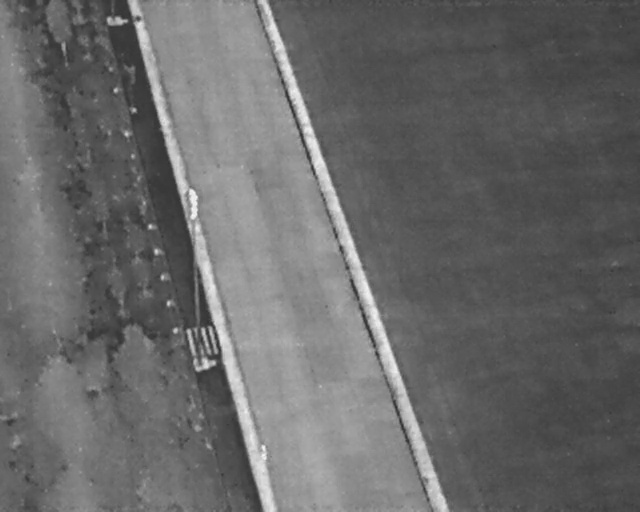Person: (260, 442, 269, 461)
